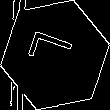L_E: (27, 32, 83, 78)
